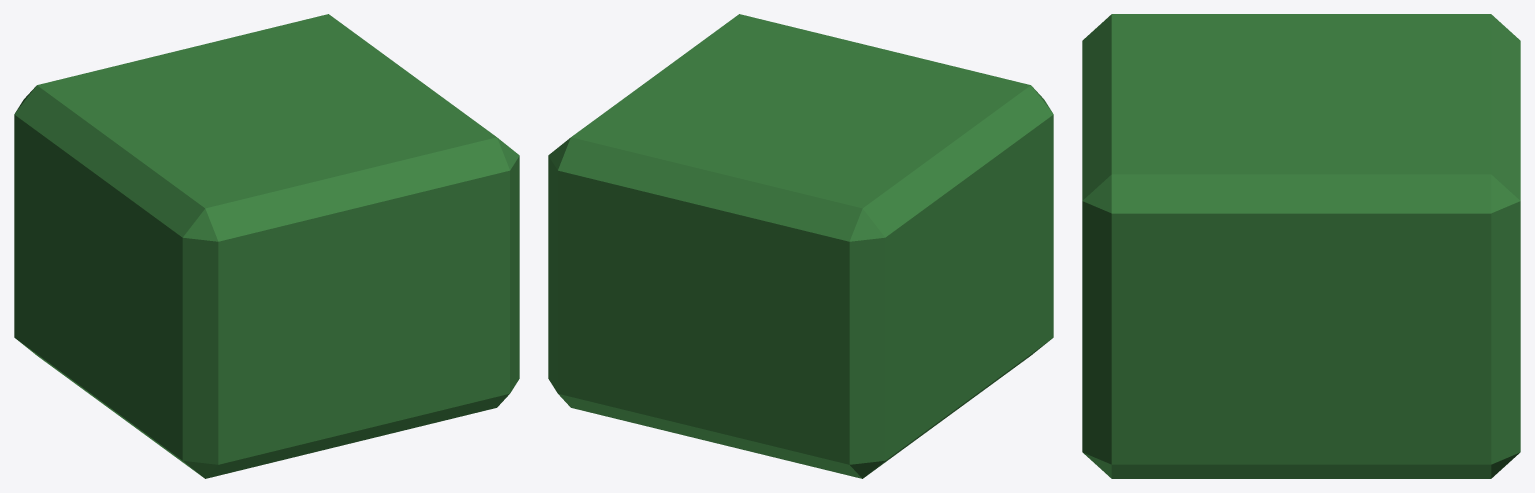
File: m_kub_dung_block_mid.fbx
3 views of the same model, side by side, from view 1: azimuth 30°, elevation 25°; view 2: azimuth 150°, elevation 25°; view 3: azimuth 270°, elevation 25° (orthographic). The views are drawn at different scales.
Parts seen in each view (by area): view 1: m_kub_dung_block_mid; view 2: m_kub_dung_block_mid; view 3: m_kub_dung_block_mid.
Part boxes in pixels (<box>): m_kub_dung_block_mid: <box>14,14,519,478</box>; m_kub_dung_block_mid: <box>548,14,1053,478</box>; m_kub_dung_block_mid: <box>1082,14,1520,478</box>.
Size of the model in its own units: 2.15 by 1.65 by 2.15.
